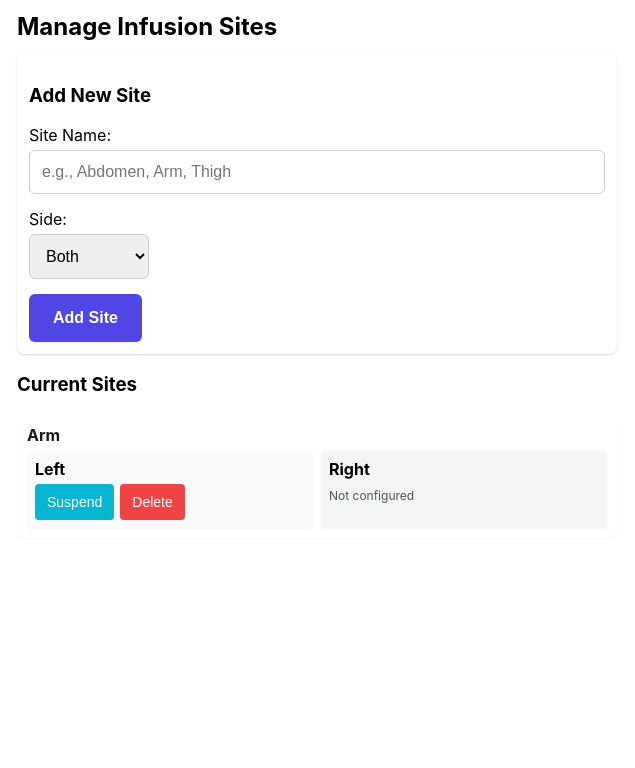
Test case: LocationManager - suspension UI › clicking Suspend opens duration picker with presets
Click the button "Suspend". click: (75, 502)
box: 35,484 -> 114,520
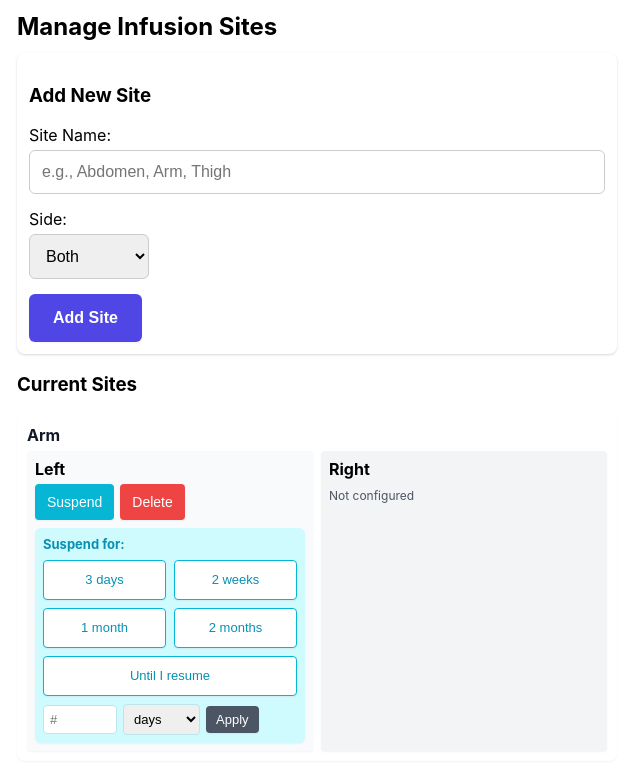
Expected: the text "Suspend for:" is shown, 43,536 -> 125,552
Expected: the button "3 days" is shown, 43,560 -> 166,600
Expected: the button "2 weeks" is shown, 174,560 -> 297,600
